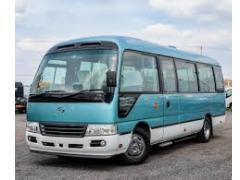bus: (27, 33, 223, 165)
